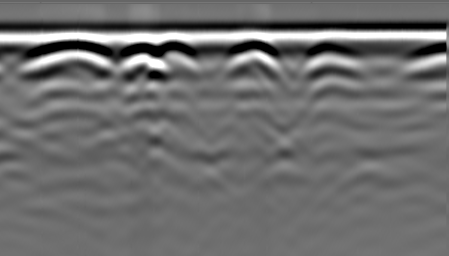steel: (28, 39, 113, 70), (226, 39, 278, 73), (303, 42, 357, 72), (117, 39, 159, 71), (161, 40, 198, 63)
